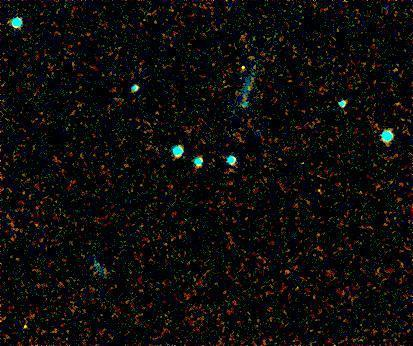star: (235, 54, 265, 84)
